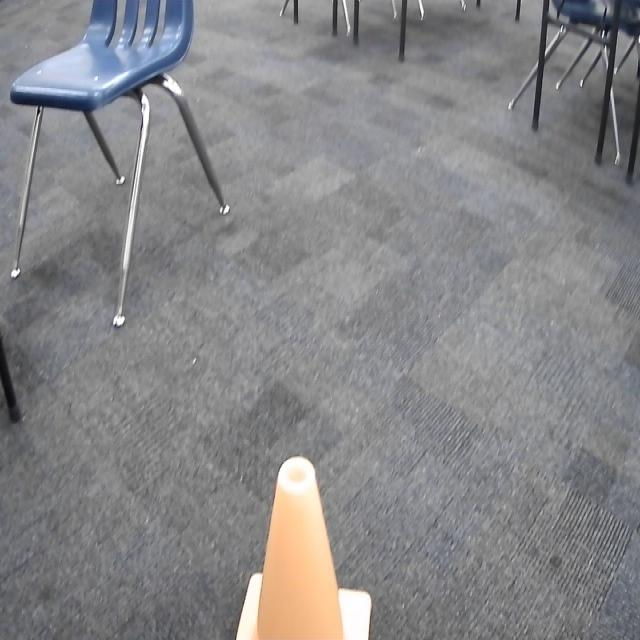cone: (232, 449, 376, 640)
